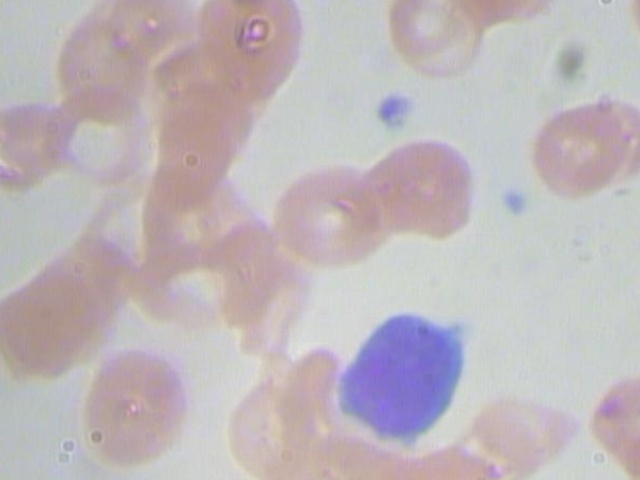Platelets: (484, 174, 536, 223), (368, 87, 420, 135)
RBC: (355, 128, 486, 253), (197, 212, 327, 337), (71, 337, 201, 462), (21, 223, 151, 348), (147, 66, 277, 191), (260, 150, 390, 274), (204, 365, 334, 480), (0, 258, 103, 383), (524, 93, 637, 198), (44, 82, 158, 186), (191, 0, 309, 98), (0, 86, 81, 190), (574, 350, 640, 475), (93, 0, 191, 72), (371, 0, 477, 60), (588, 84, 640, 187)
WBC: (320, 302, 497, 450)
